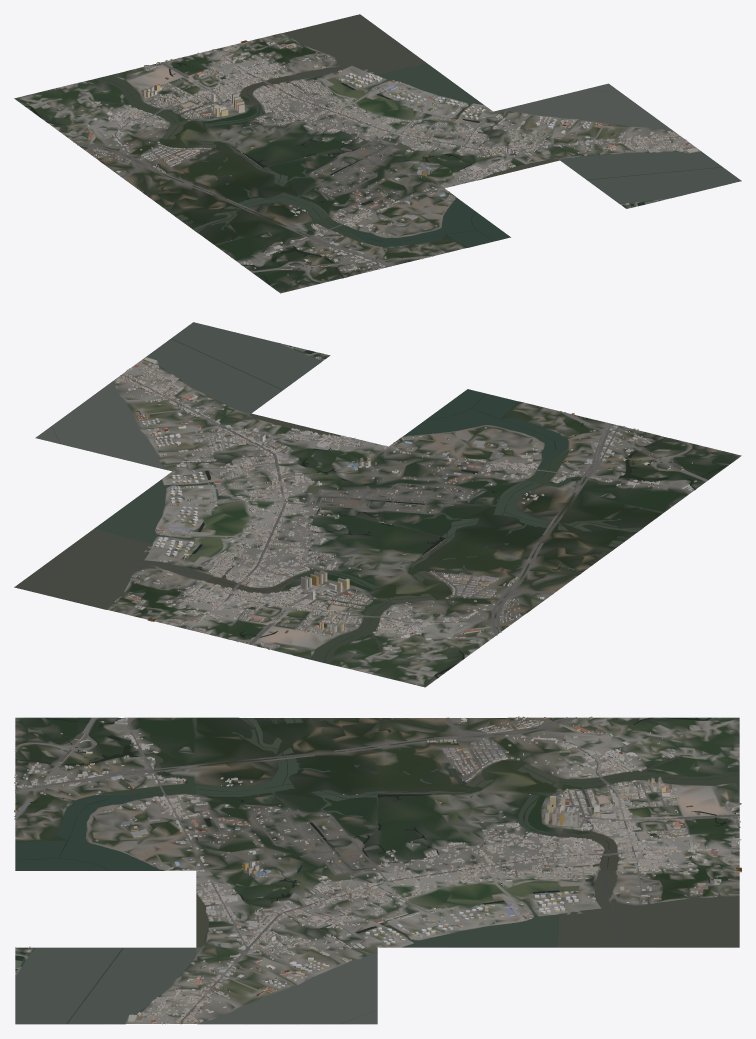
3 renders of one model, top to bottom at view 1: azimuth 30°, elevation 25°; view 2: azimuth 150°, elevation 25°; view 3: azimuth 270°, elevation 25°, orthographic. The views are drawn at different scales.
Parts seen in each view (by area): view 1: ground, water, buildings, roads; view 2: ground, water, buildings, roads; view 3: ground, water, buildings, roads.
Part boxes in pixels (x1=…): ground: x1=14, y1=17, x2=741, y2=293; water: x1=25, y1=14, x2=741, y2=284; buildings: x1=68, y1=38, x2=698, y2=275; roads: x1=73, y1=36, x2=680, y2=281; ground: x1=14, y1=338, x2=741, y2=687; water: x1=14, y1=322, x2=727, y2=678; buildings: x1=114, y1=356, x2=696, y2=653; roads: x1=120, y1=375, x2=708, y2=645; ground: x1=15, y1=717, x2=739, y2=1024; water: x1=15, y1=717, x2=739, y2=1023; buildings: x1=14, y1=716, x2=741, y2=1024; roads: x1=14, y1=717, x2=740, y2=1024.
Bounding box in the file's own units: 5616 × 110 × 5629.
